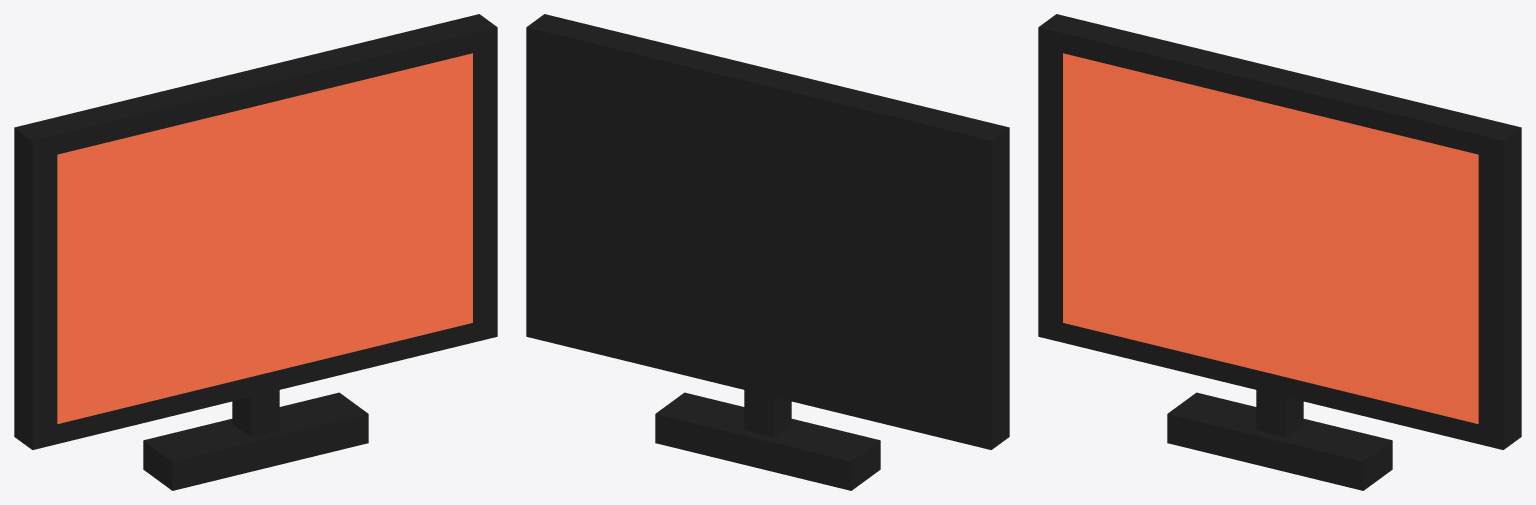
File: 显示器2.fbx
3 renders of one model, left to right at view 1: azimuth 30°, elevation 25°; view 2: azimuth 150°, elevation 25°; view 3: azimuth 330°, elevation 25°, orthographic.
Parts seen in each view (by area): view 1: diannao__1; view 2: diannao__1; view 3: diannao__1.
Part boxes in pixels (left/top/right/bottom): diannao__1: left=14, top=14, right=497, bottom=490; diannao__1: left=526, top=14, right=1009, bottom=490; diannao__1: left=1038, top=14, right=1521, bottom=490.
Size of the model in its own units: 50.07 by 38.98 by 5.48.
